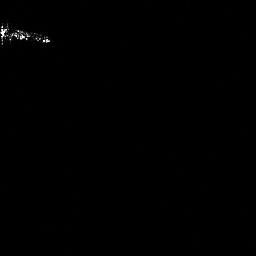ship: (1, 20, 53, 47)
